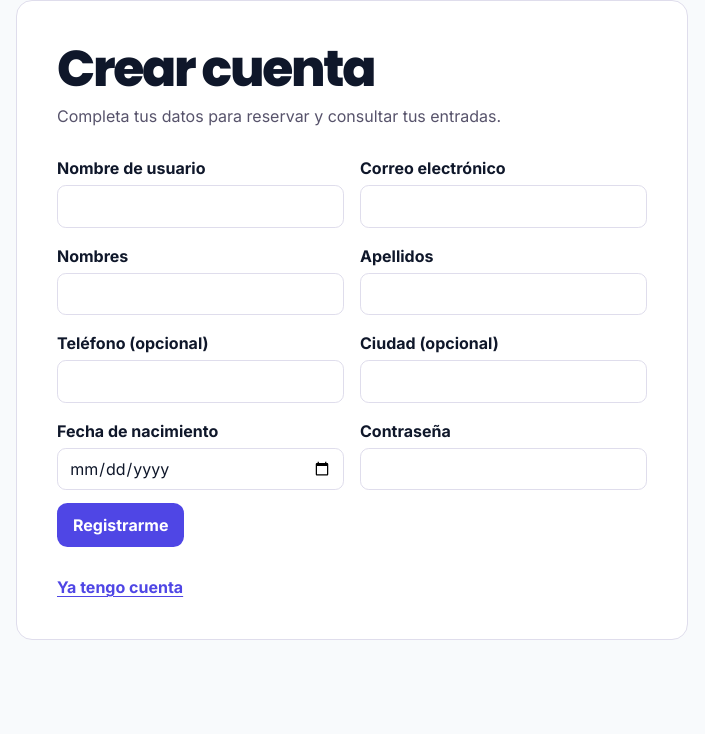
Test: registro inválido muestra errores antes de enviar
Step 1. Type "corta" into the password field labelled "Contraseña" → (504, 469), box x1=360 y1=448 x2=647 y2=490
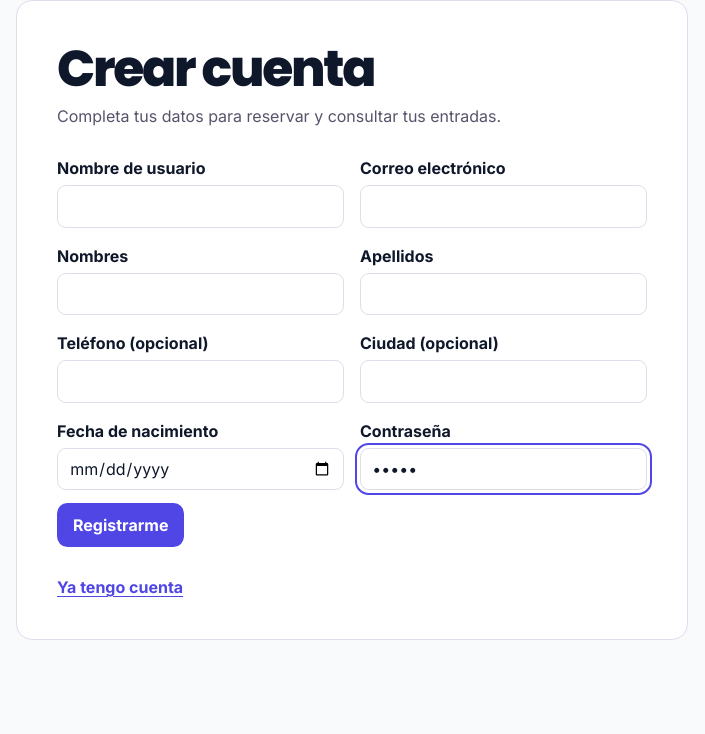
Step 2. Click the button "Registrarme" → (121, 525), box x1=57 y1=503 x2=184 y2=547
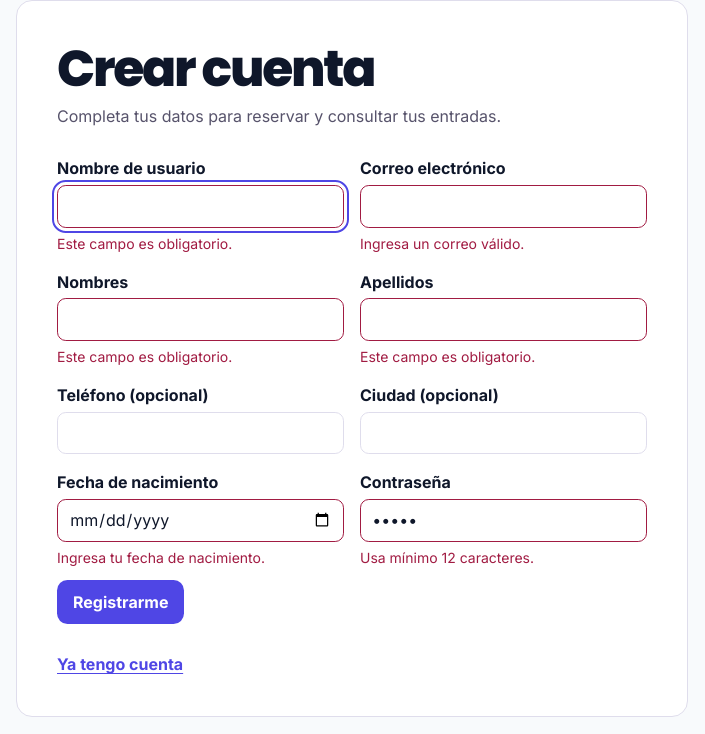
Expected: the text "Usa mínimo 12 caracteres." is shown, x1=360 y1=548 x2=534 y2=566
